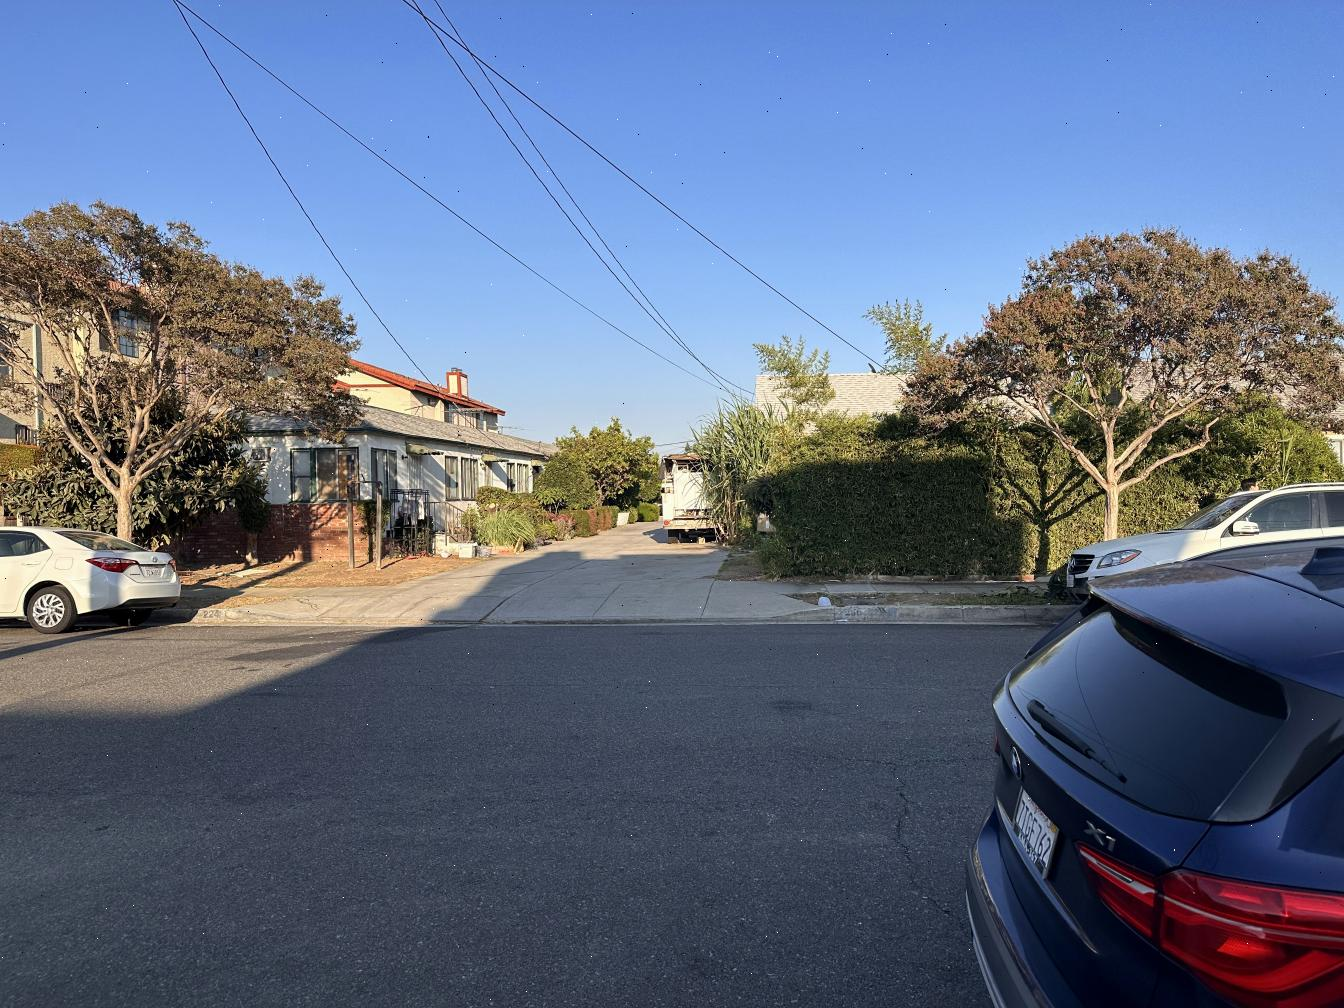curbs-laRr: (839, 605, 1056, 622), (184, 608, 236, 625)
